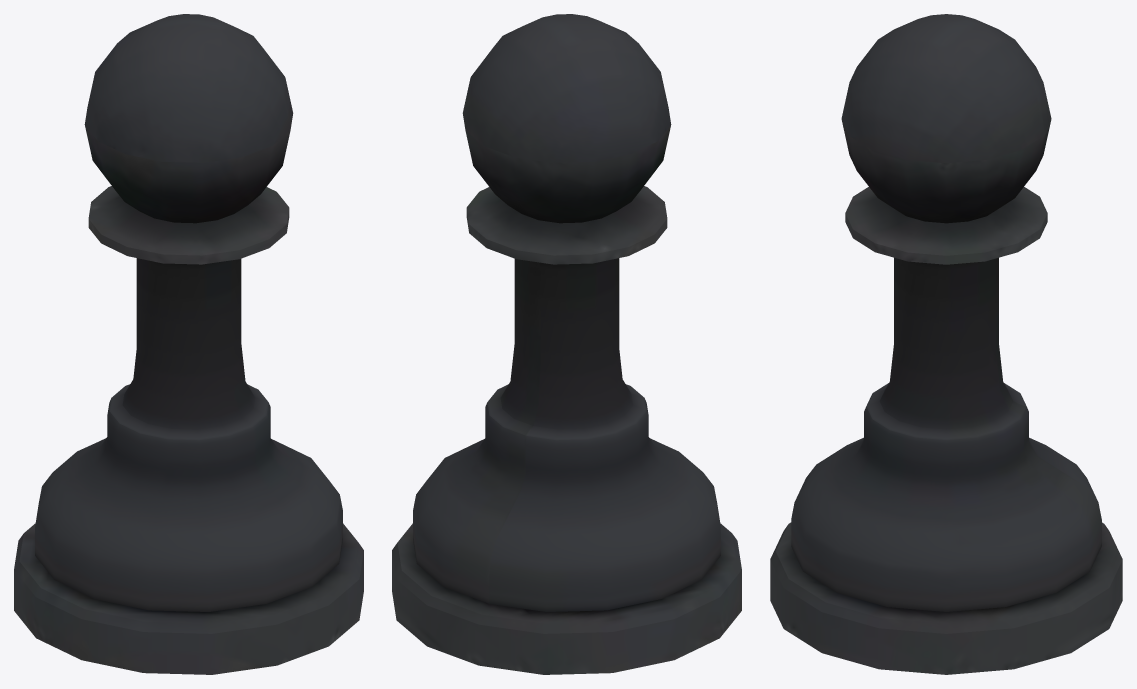
File: pawn_black.glb
The picture shows the model from 3 angles, left to right: view 1: azimuth 30°, elevation 25°; view 2: azimuth 150°, elevation 25°; view 3: azimuth 270°, elevation 25°; orthographic projection.
Visible parts, largest first — view 1: pawn_black; view 2: pawn_black; view 3: pawn_black.
Boxes of the visible parts, x1=… form: pawn_black: x1=14, y1=14, x2=363, y2=674; pawn_black: x1=392, y1=14, x2=741, y2=674; pawn_black: x1=770, y1=14, x2=1122, y2=674.
Size of the model in its own units: 1.01 by 1.82 by 1.01.
Materials: 1 (1 with a texture image).
